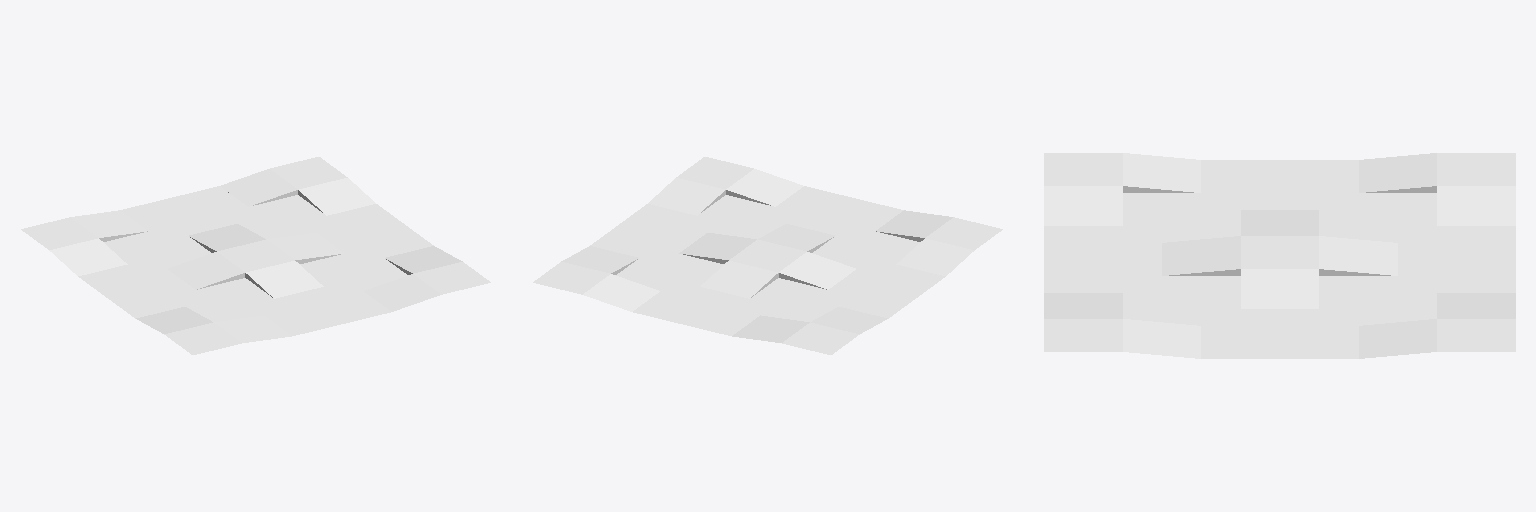
robot.urdf — tag1_1:
<?xml version="1.0" ?>
<robot name="tag1_1">
  <link name="ground">
  <contact>
      <lateral_friction value="2"/>
  </contact>
    <inertial>
      <origin rpy="0 0 0" xyz="0 0 0"/>
       <mass value="1000.0"/>
       <inertia ixx="0" ixy="0" ixz="0" iyy="0" iyz="0" izz="0"/>
    </inertial>
    <visual>
      <origin rpy="0 0 0" xyz="0 0 0"/>
      <geometry>
        <mesh filename="tag1_1.obj" scale="1 1 1"/>
      </geometry>
       <material name="white">
        <color rgba="1 1 1 1"/>
      </material>
    </visual>
        <collision concave="yes">
      <origin rpy="0 0 0" xyz="0 0 0"/>
      <geometry>
        <mesh filename="tag1_1.obj" scale="1 1 1"/>
      </geometry>
    </collision>
  </link>
</robot>

--- Render facts (derived) ---
The picture shows the robot from 3 angles, left to right: view 1: azimuth 30°, elevation 25°; view 2: azimuth 150°, elevation 25°; view 3: azimuth 270°, elevation 25°; orthographic projection.
Model tag1_1 with 1 links and 0 joints (none), rooted at ground, posed every joint at zero.
Visible links, largest first — view 1: ground; view 2: ground; view 3: ground.
Boxes of the visible links, x1,y1,x2,y2 form: ground: (21, 157, 490, 354); ground: (533, 157, 1002, 354); ground: (1044, 153, 1515, 358).
Size in the robot's own frame: 30 by 30 by 0.5 metres.
1 mesh visuals loaded from 1 distinct referenced files (1 OBJ).
